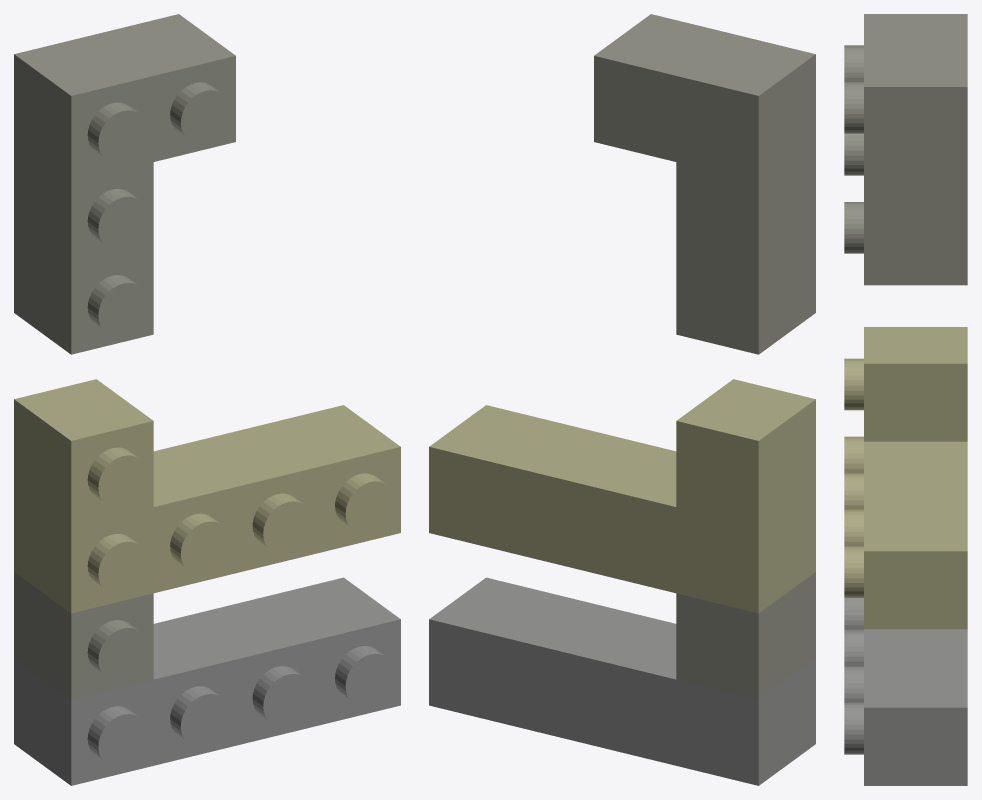
File: current.glb
The picture shows the model from 3 angles, left to right: view 1: azimuth 30°, elevation 25°; view 2: azimuth 150°, elevation 25°; view 3: azimuth 270°, elevation 25°; orthographic projection. The views are drawn at different scales.
Parts seen in each view (by area): view 1: world; view 2: world; view 3: world.
Boxes of the visible parts, box(x1,y1,x2,y2) form: world: box(14, 14, 400, 785); world: box(429, 14, 815, 785); world: box(844, 14, 967, 785).
Size of the model in its own units: 32 by 64 by 11.4.
